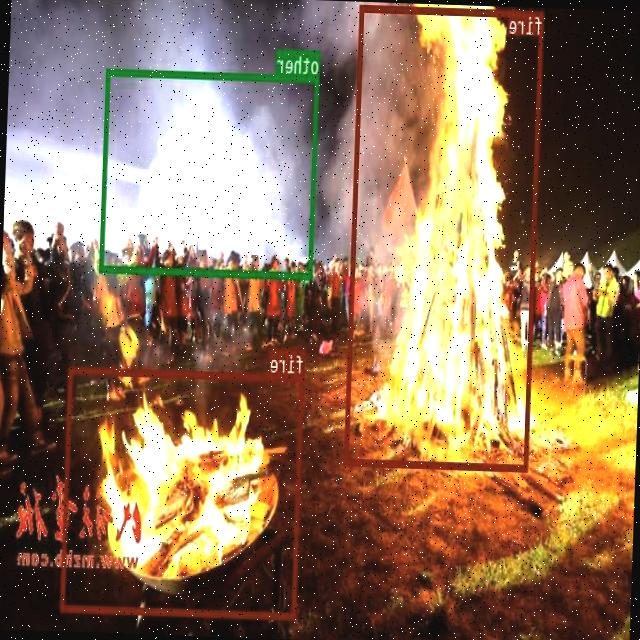fire: (344, 2, 544, 470), (62, 366, 304, 618)
